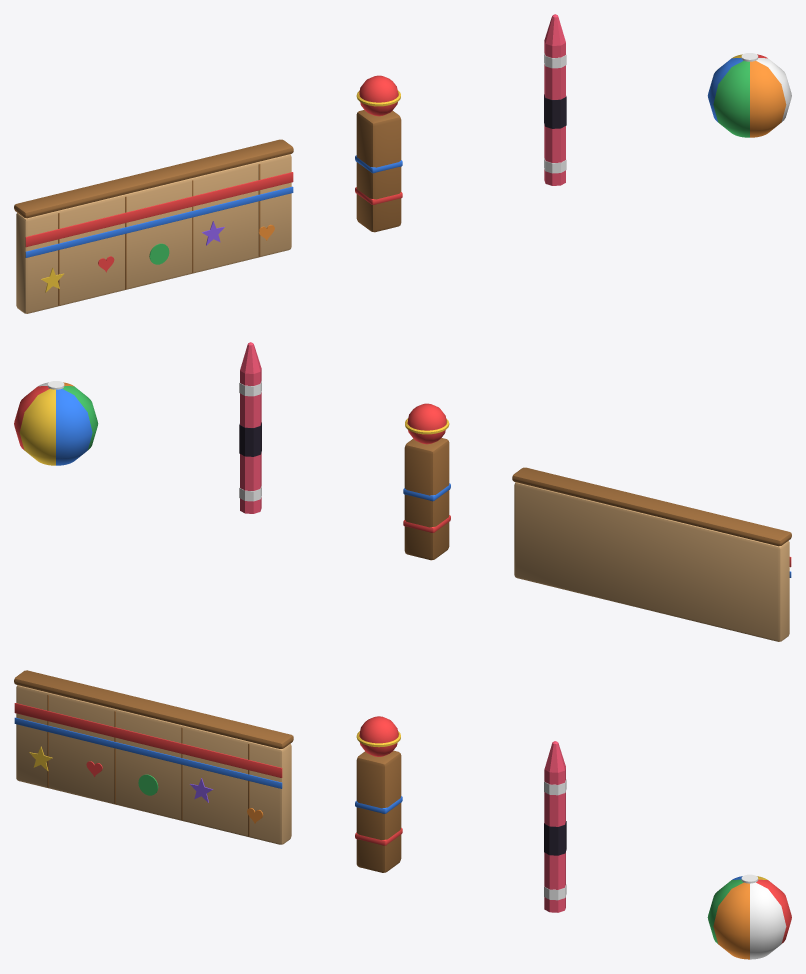
File: Toybox_v2.fbx
The picture shows the model from 3 angles, top to bottom: view 1: azimuth 30°, elevation 25°; view 2: azimuth 150°, elevation 25°; view 3: azimuth 330°, elevation 25°; orthographic projection.
Visible parts, largest first — view 1: ToyBoxWall__Board__E2B57ESP, ToyBoxCorner__Post__A8733ESP, ToyBoxWall__TopRail__A8733ESP, ToyBoxWall__StripeA__FF4B4BSP, GiantCrayon__Wax__FF5A7ASP, GiantBall__Seg3__44C767SP, GiantBall__Seg4__FF9A3CSP, ToyBoxWall__StripeB__3E8BFFSP, ToyBoxCorner__Knob__FF4B4BSP, GiantCrayon__Label__2A2433SP, ToyBoxWall__Seams__A8733ESP, GiantBall__Seg5__FFFFFFSP (+1 smaller); view 2: ToyBoxWall__Board__E2B57ESP, ToyBoxCorner__Post__A8733ESP, ToyBoxWall__TopRail__A8733ESP, GiantCrayon__Wax__FF5A7ASP, GiantBall__Seg2__3E8BFFSP, GiantBall__Seg1__FFD23FSP, ToyBoxCorner__Knob__FF4B4BSP, GiantCrayon__Label__2A2433SP, GiantBall__Seg0__FF4B4BSP, GiantBall__Seg3__44C767SP; view 3: ToyBoxWall__Board__E2B57ESP, ToyBoxCorner__Post__A8733ESP, ToyBoxWall__TopRail__A8733ESP, ToyBoxWall__StripeA__FF4B4BSP, GiantCrayon__Wax__FF5A7ASP, GiantBall__Seg4__FF9A3CSP, GiantBall__Seg5__FFFFFFSP, ToyBoxWall__StripeB__3E8BFFSP, ToyBoxCorner__Knob__FF4B4BSP, GiantCrayon__Label__2A2433SP, ToyBoxWall__Seams__A8733ESP, GiantBall__Seg3__44C767SP (+2 smaller).
Part boxes in pixels (box(x1,y1,x2,y2)): ToyBoxWall__Board__E2B57ESP: box(16, 154, 291, 313); ToyBoxCorner__Post__A8733ESP: box(356, 110, 401, 232); ToyBoxWall__TopRail__A8733ESP: box(14, 139, 293, 218); ToyBoxWall__StripeA__FF4B4BSP: box(25, 172, 293, 247); GiantCrayon__Wax__FF5A7ASP: box(544, 14, 565, 185); GiantBall__Seg3__44C767SP: box(713, 61, 749, 137); GiantBall__Seg4__FF9A3CSP: box(750, 60, 786, 137); ToyBoxWall__StripeB__3E8BFFSP: box(25, 186, 293, 257); ToyBoxCorner__Knob__FF4B4BSP: box(359, 75, 398, 116); GiantCrayon__Label__2A2433SP: box(544, 94, 566, 128); ToyBoxWall__Seams__A8733ESP: box(58, 164, 260, 305); GiantBall__Seg5__FFFFFFSP: box(756, 58, 791, 121); ToyBoxWall__Board__E2B57ESP: box(514, 482, 789, 641); ToyBoxCorner__Post__A8733ESP: box(404, 438, 449, 560); ToyBoxWall__TopRail__A8733ESP: box(512, 467, 791, 546); GiantCrayon__Wax__FF5A7ASP: box(240, 342, 261, 513); GiantBall__Seg2__3E8BFFSP: box(56, 389, 92, 465); GiantBall__Seg1__FFD23FSP: box(19, 388, 55, 465); ToyBoxCorner__Knob__FF4B4BSP: box(407, 403, 446, 444); GiantCrayon__Label__2A2433SP: box(239, 422, 261, 456); GiantBall__Seg0__FF4B4BSP: box(14, 386, 49, 449); GiantBall__Seg3__44C767SP: box(62, 386, 98, 449); ToyBoxWall__Board__E2B57ESP: box(16, 685, 291, 844); ToyBoxCorner__Post__A8733ESP: box(356, 750, 401, 872); ToyBoxWall__TopRail__A8733ESP: box(14, 670, 293, 748); ToyBoxWall__StripeA__FF4B4BSP: box(14, 703, 282, 777); GiantCrayon__Wax__FF5A7ASP: box(544, 741, 565, 912); GiantBall__Seg4__FF9A3CSP: box(713, 882, 749, 959); GiantBall__Seg5__FFFFFFSP: box(750, 882, 786, 959); ToyBoxWall__StripeB__3E8BFFSP: box(14, 717, 282, 788); ToyBoxCorner__Knob__FF4B4BSP: box(359, 716, 398, 756); GiantCrayon__Label__2A2433SP: box(544, 821, 566, 855); ToyBoxWall__Seams__A8733ESP: box(47, 695, 249, 836); GiantBall__Seg3__44C767SP: box(707, 879, 743, 943).
Bounding box in the file's own units: 126 × 26.3 × 12.
